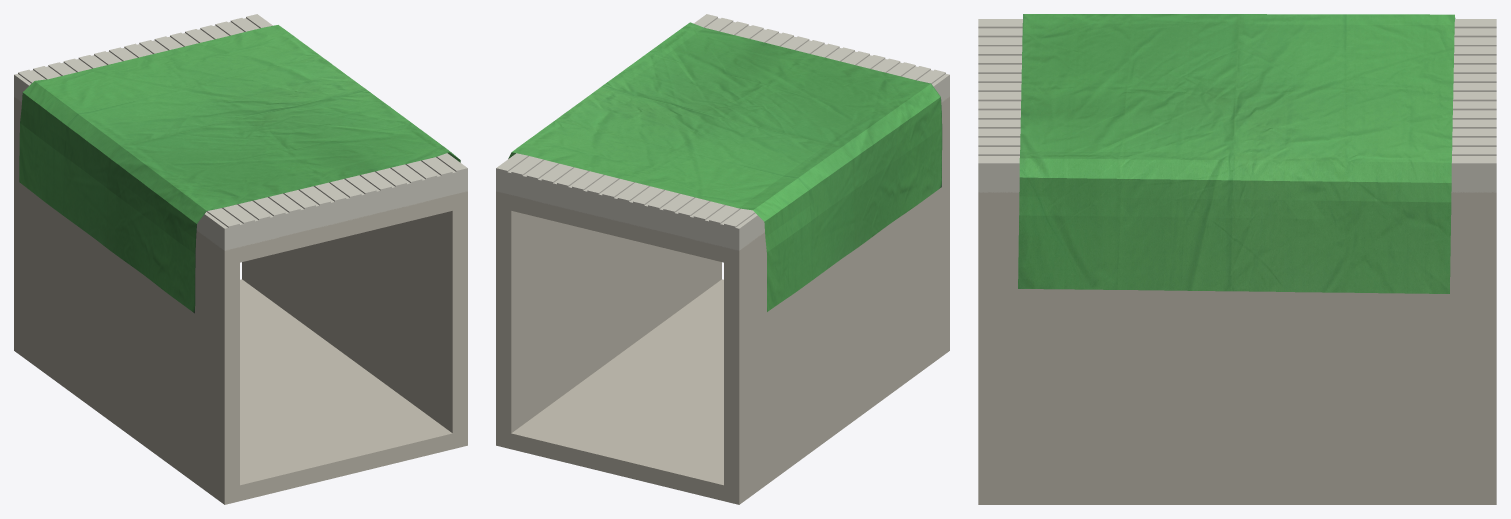
The picture shows the model from 3 angles, left to right: view 1: azimuth 30°, elevation 25°; view 2: azimuth 150°, elevation 25°; view 3: azimuth 270°, elevation 25°; orthographic projection. The views are drawn at different scales.
Visible parts, largest first — view 1: 立方体, Plane, 立方体.001; view 2: 立方体, Plane, 立方体.001; view 3: Plane, 立方体, 立方体.001.
Part boxes in pixels (bbox=[...]): 立方体: bbox=[14, 97, 467, 504]; Plane: bbox=[19, 25, 460, 313]; 立方体.001: bbox=[14, 14, 467, 250]; 立方体: bbox=[496, 96, 949, 504]; Plane: bbox=[508, 22, 942, 311]; 立方体.001: bbox=[496, 14, 949, 250]; Plane: bbox=[1018, 14, 1455, 293]; 立方体: bbox=[978, 191, 1496, 504]; 立方体.001: bbox=[978, 19, 1496, 192].
Size of the model in its own units: 0.8775 by 1.2 by 0.8853.
Materials: 3 (1 with a texture image).
